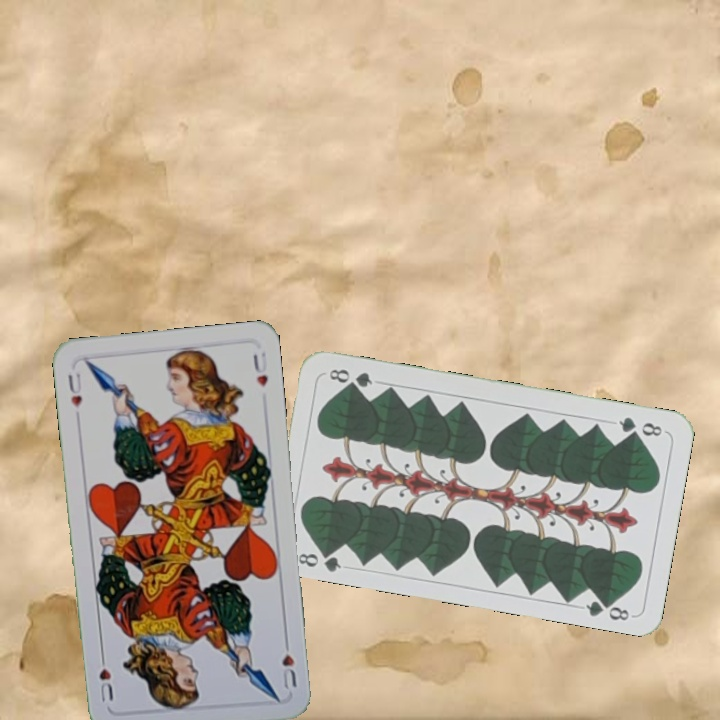G8: (294, 544, 344, 575), (614, 413, 665, 439)
HU: (278, 634, 299, 691), (63, 369, 85, 410)
